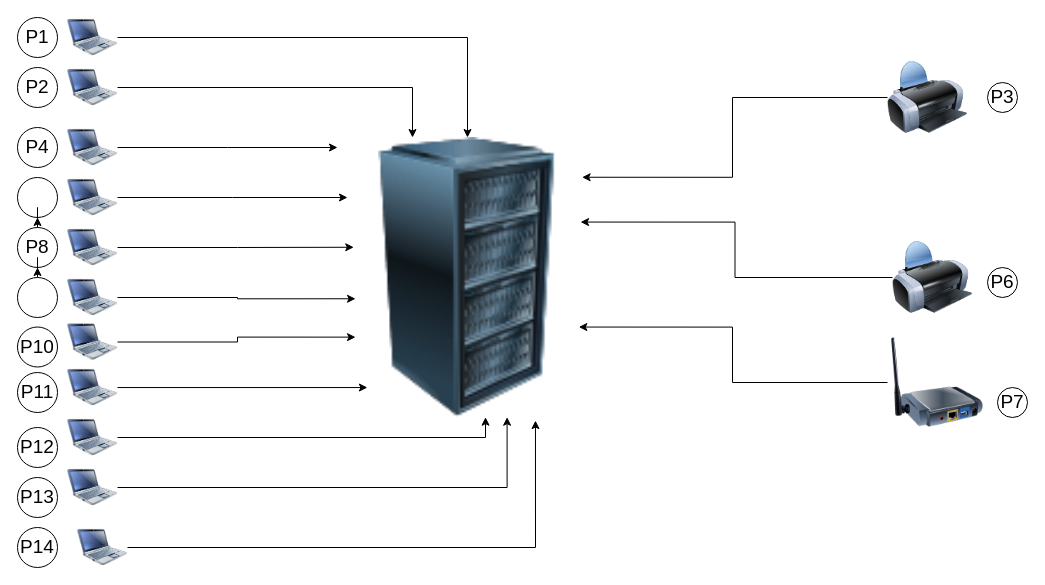
The diagram is 1045 pixels wide and 585 high, and some of its shapes have lost their labels. The centre of each missing label's shape, as x and y in pixels:
P5: point (37, 197)
P9: point (37, 297)
